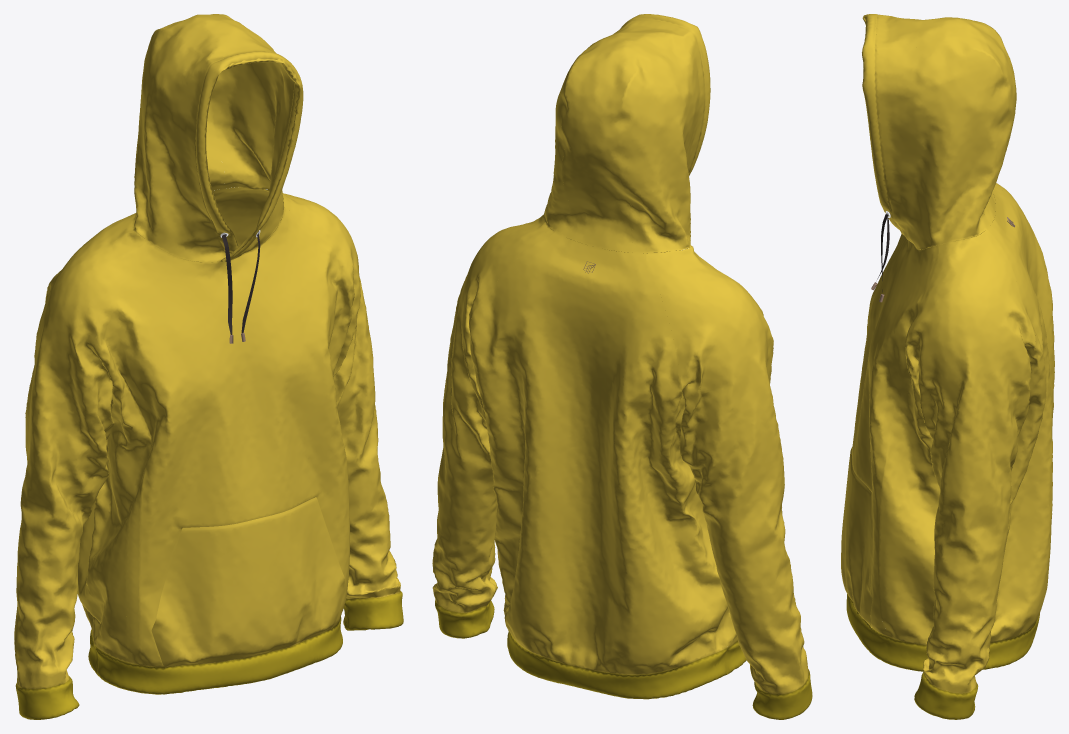
The model's file is sudadera.glb.
The picture shows the model from 3 angles, left to right: view 1: azimuth 30°, elevation 25°; view 2: azimuth 150°, elevation 25°; view 3: azimuth 270°, elevation 25°; orthographic projection. The views are drawn at different scales.
Visible parts, largest first — view 1: Object_3; view 2: Object_3; view 3: Object_3.
Boxes of the visible parts, x1,y1,x2,y2 form: Object_3: (14,14,403,719); Object_3: (432,14,812,719); Object_3: (841,14,1054,719).
Size of the model in its own units: 0.2345 by 0.386 by 0.1207.
3 materials, 3 textured.
